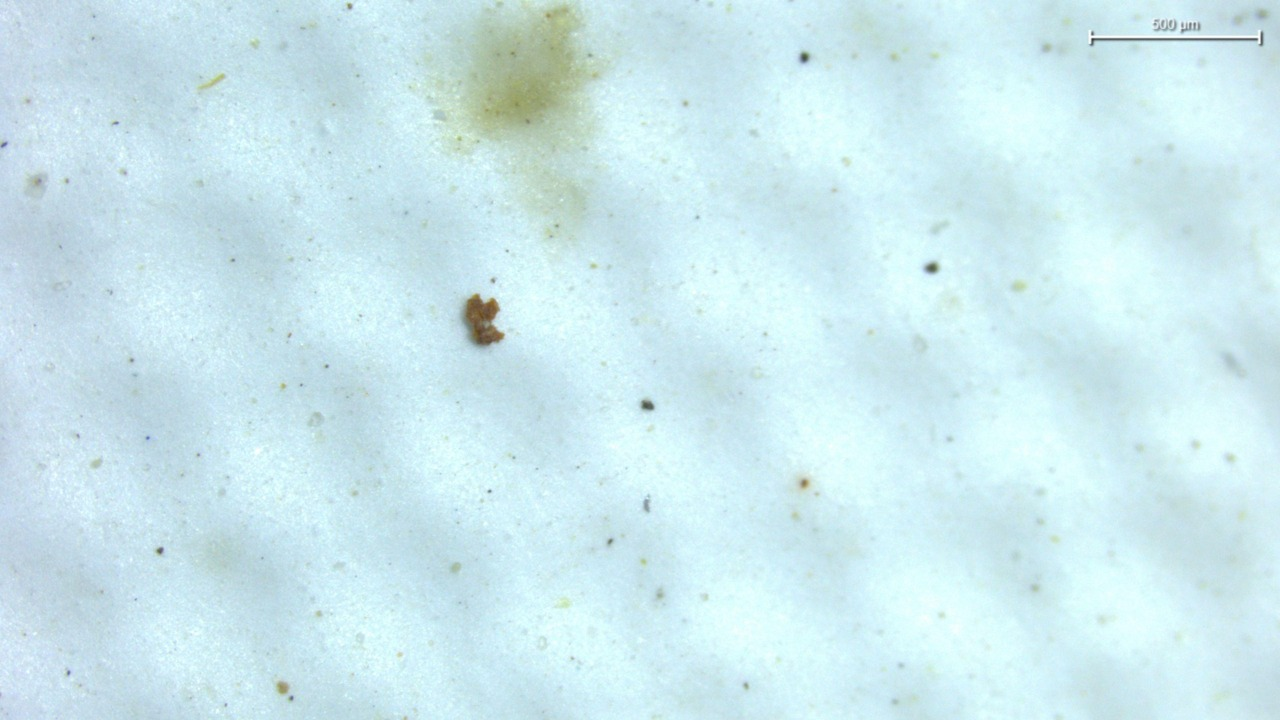microplastic_fragment: (465, 294, 504, 345)
